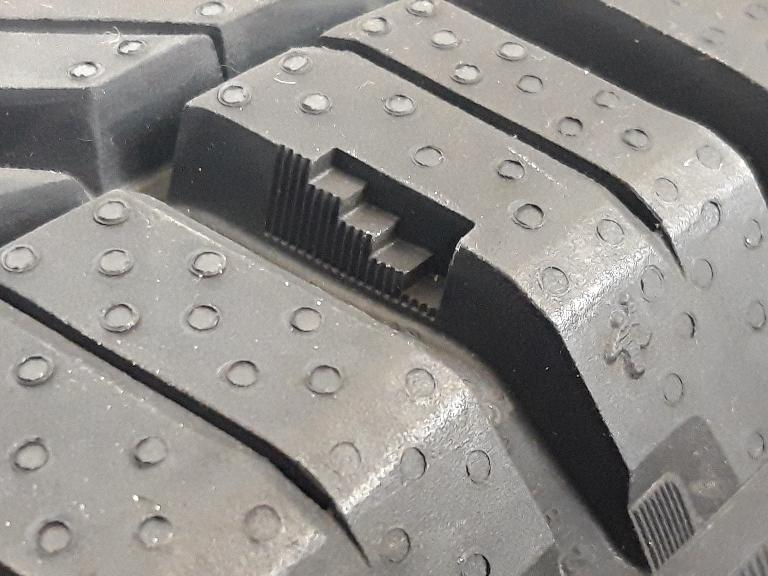temoin:100: (261, 138, 479, 326)
